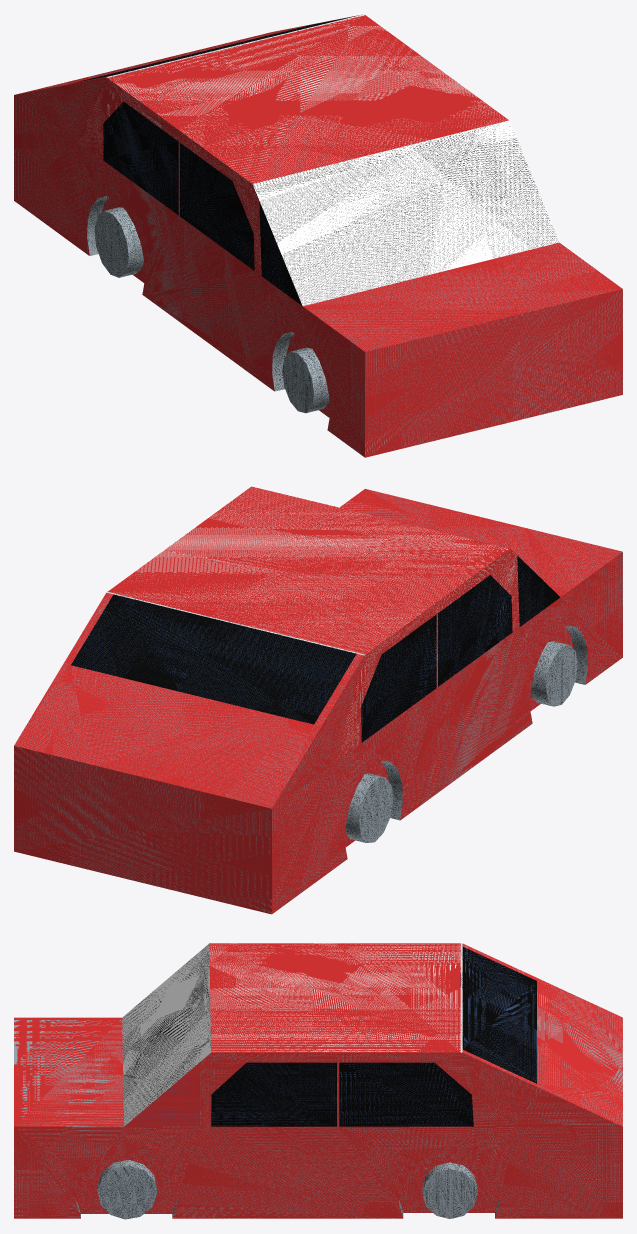
Rendered from car_red_sedan.fbx.
3 renders of one model, top to bottom at view 1: azimuth 30°, elevation 25°; view 2: azimuth 150°, elevation 25°; view 3: azimuth 270°, elevation 25°, orthographic. The views are drawn at different scales.
Parts seen in each view (by area): view 1: Model; view 2: Model; view 3: Model.
Boxes of the visible parts, left/top/right/bottom form: Model: left=14, top=14, right=622, bottom=457; Model: left=14, top=486, right=622, bottom=914; Model: left=14, top=943, right=622, bottom=1219.
Bounding box in the file's own units: 211 × 146 × 485.
